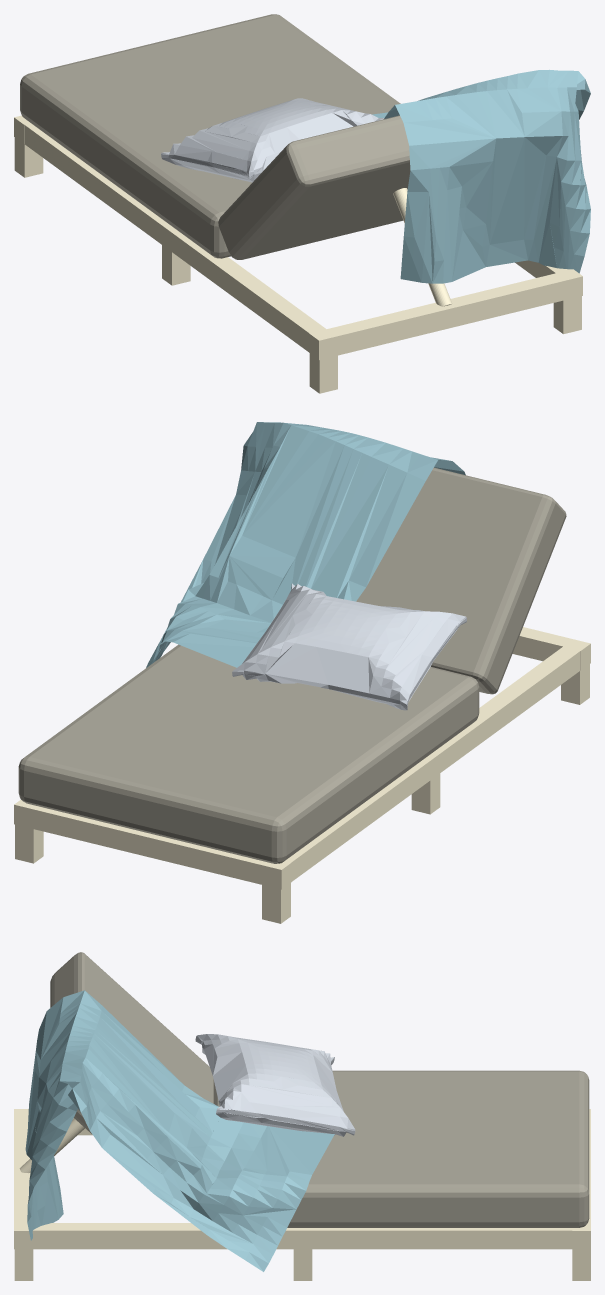
File: tumbona.glb
3 renders of one model, top to bottom at view 1: azimuth 30°, elevation 25°; view 2: azimuth 150°, elevation 25°; view 3: azimuth 270°, elevation 25°, orthographic. The views are drawn at different scales.
Visible parts, largest first — view 1: Cube.010_3, Plane_6, Cube_2, Cube.011_4, Cube.001_7, Plane.001_8, Cylinder_5; view 2: Cube.010_3, Plane_6, Cube.011_4, Cube_2, Cube.001_7, Plane.001_8; view 3: Cube.010_3, Plane_6, Cube_2, Cube.001_7, Cube.011_4, Plane.001_8, Cylinder_5.
Part boxes in pixels (x1,y1,x2,y2): Cube.010_3: (20, 14, 400, 258); Plane_6: (372, 69, 590, 283); Cube_2: (14, 115, 582, 393); Cube.011_4: (218, 115, 410, 259); Cube.001_7: (161, 98, 384, 182); Plane.001_8: (391, 71, 590, 283); Cylinder_5: (393, 188, 452, 306); Cube.010_3: (18, 644, 479, 863); Plane_6: (146, 422, 465, 667); Cube.011_4: (356, 467, 566, 694); Cube_2: (14, 627, 590, 923); Cube.001_7: (232, 583, 466, 710); Plane.001_8: (148, 422, 434, 663); Cube.010_3: (214, 1070, 589, 1227); Plane_6: (25, 990, 334, 1271); Cube_2: (14, 1109, 590, 1280); Cube.001_7: (195, 1034, 355, 1136); Cube.011_4: (50, 952, 213, 1133); Plane.001_8: (28, 991, 311, 1270); Cylinder_5: (19, 1118, 84, 1173).
Size of the model in its own units: 1.19 by 0.8453 by 2.
